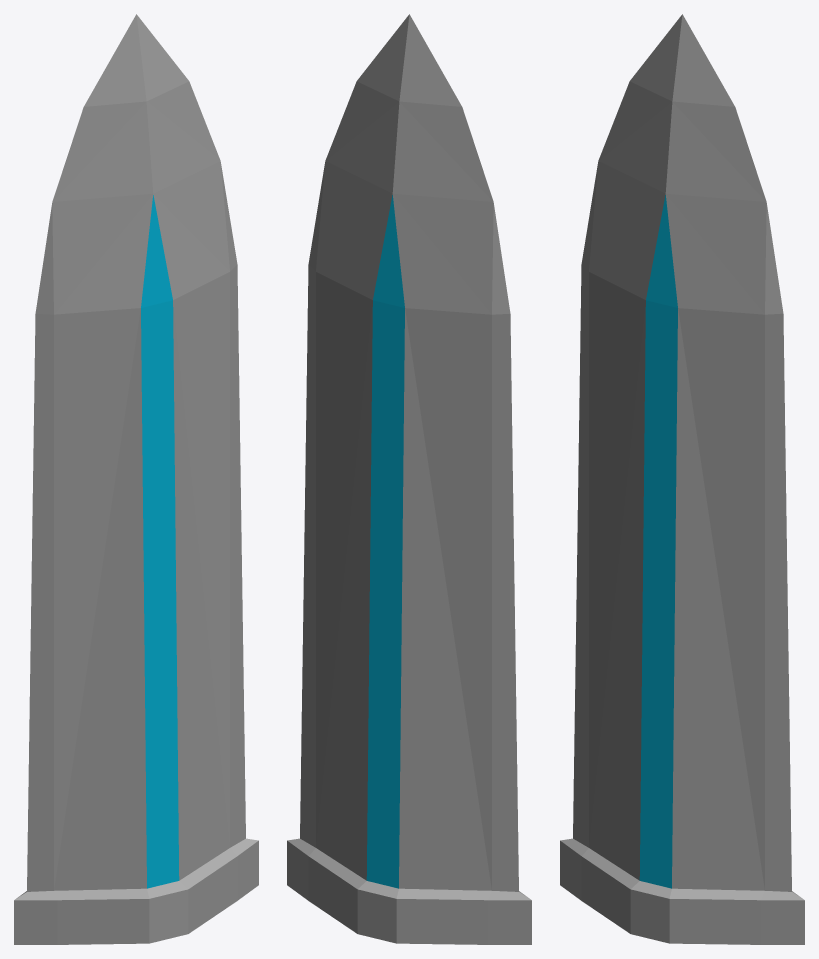
Rendered from pylon.fbx.
The picture shows the model from 3 angles, left to right: view 1: azimuth 30°, elevation 25°; view 2: azimuth 150°, elevation 25°; view 3: azimuth 330°, elevation 25°; orthographic projection.
Visible parts, largest first — view 1: pylon; view 2: pylon; view 3: pylon.
Part boxes in pixels (<box>): pylon: <box>14,14,258,944</box>; pylon: <box>287,14,531,944</box>; pylon: <box>560,14,804,944</box>.
Size of the model in its own units: 0.0133 by 0.0467 by 0.0061.
